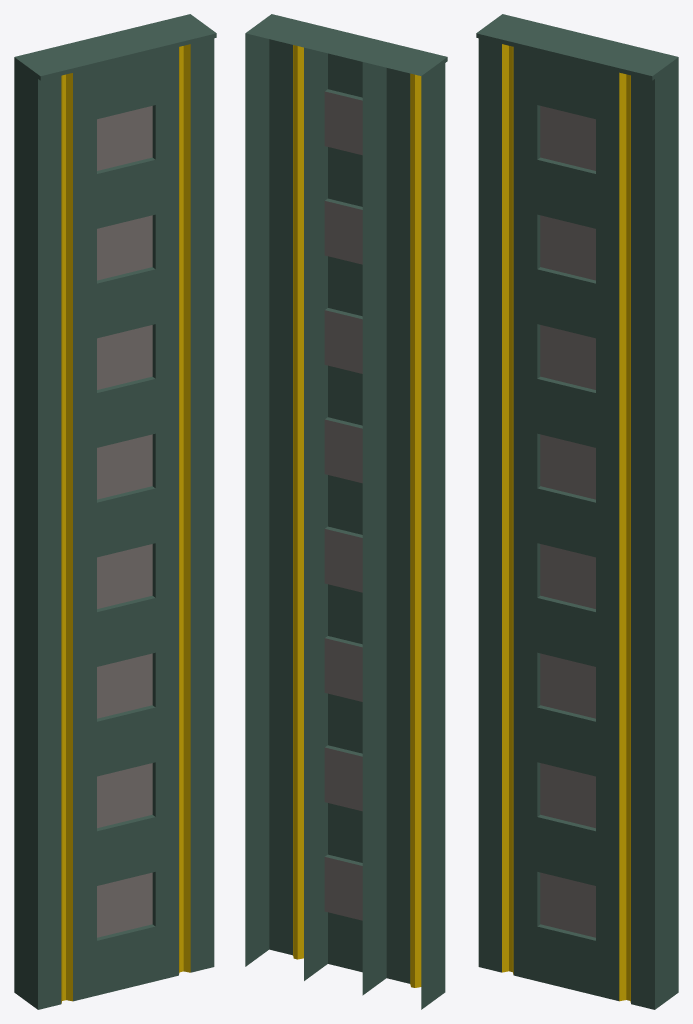
3 views of the same model, side by side, from view 1: azimuth 30°, elevation 25°; view 2: azimuth 150°, elevation 25°; view 3: azimuth 330°, elevation 25° (orthographic).
Visible parts, largest first — view 1: Column.039; view 2: Column.039; view 3: Column.039.
Boxes of the visible parts, left/top/right/bottom form: Column.039: left=14, top=14, right=216, bottom=1009; Column.039: left=245, top=14, right=447, bottom=1009; Column.039: left=476, top=14, right=678, bottom=1009.
Size of the model in its own units: 835 by 4238 by 217.
